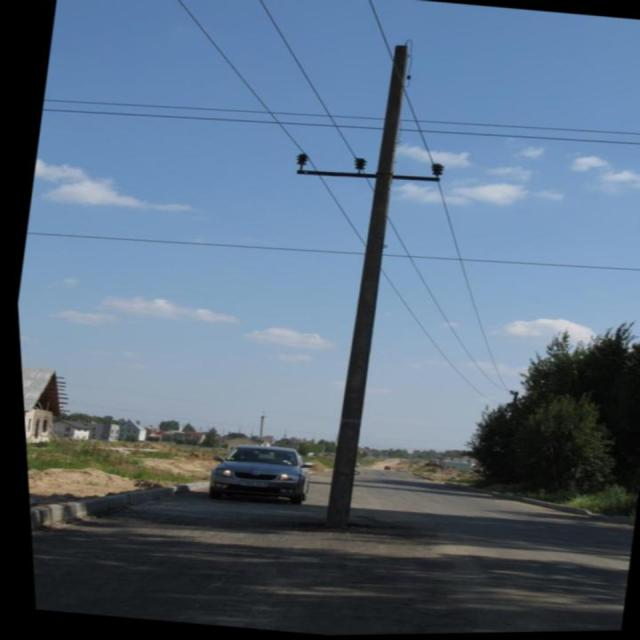pole: (311, 218, 399, 534)
